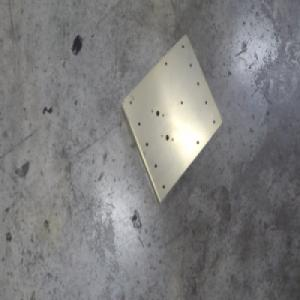MetalSheet: (118, 33, 222, 205)
